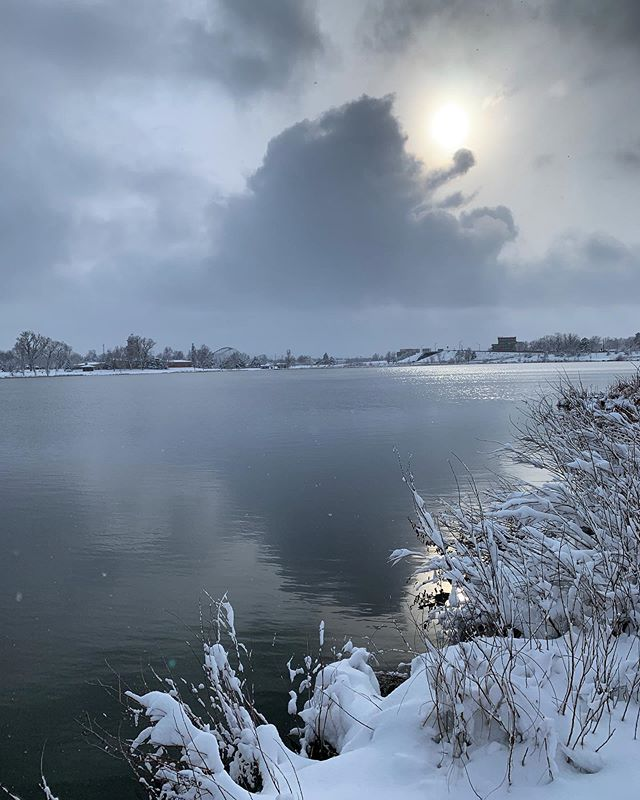river: (1, 365, 635, 800)
sky: (1, 1, 634, 333)
